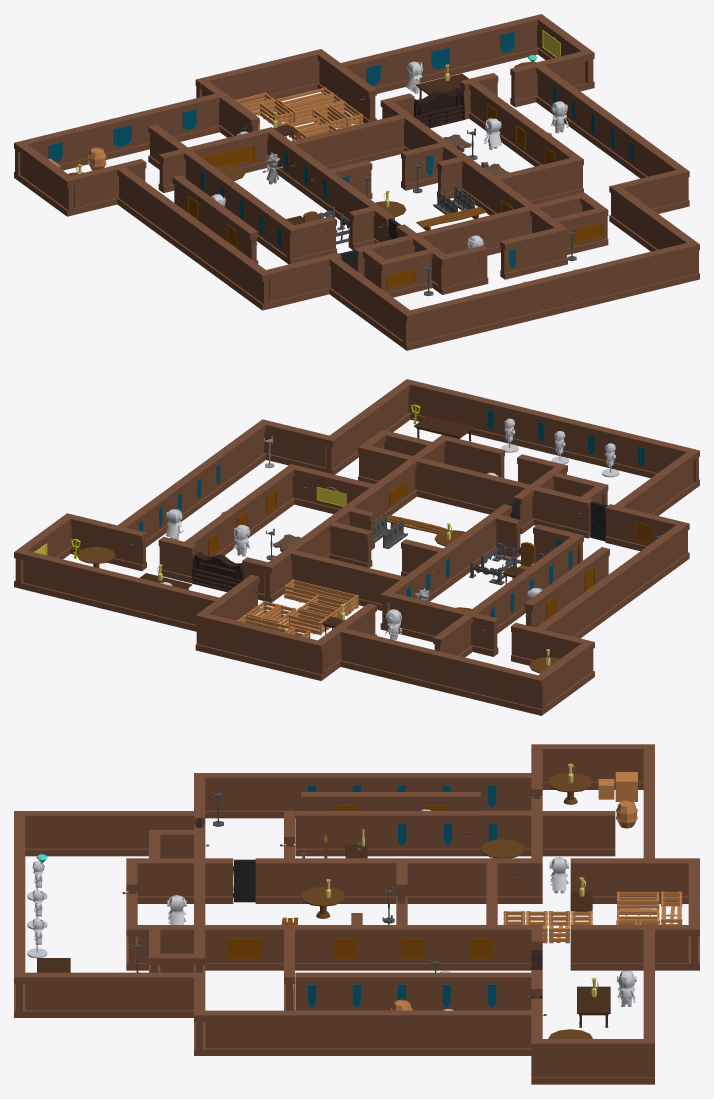
Rendered from Level1_2.0_FBX.fbx.
3 views of the same model, one above another, from view 1: azimuth 30°, elevation 25°; view 2: azimuth 150°, elevation 25°; view 3: azimuth 270°, elevation 25° (orthographic). The views are drawn at different scales.
Parts seen in each view (by area): view 1: Wall31, Wall17, Wall1, Wall12, Wall6, Wall33, Wall20, Wall9, Wall36, Wall23, Wall38, Wall30 (+32 smaller); view 2: Wall31, Wall12, Wall33, Wall1, Wall17, Wall9, Wall6, Wall23, Wall20, Wall8, Wall36, Wall25 (+32 smaller); view 3: Wall6, Wall23, Wall20, Wall38, Wall17, Wall8, Wall25, Wall30, Wall, Wall10, Wall11, Wall13 (+32 smaller).
Part boxes in pixels (x1,y1,x2,y2): Wall31: (402, 241, 699, 350); Wall17: (117, 167, 270, 310); Wall1: (341, 16, 537, 93); Wall12: (14, 94, 219, 180); Wall6: (536, 65, 684, 178); Wall33: (354, 192, 588, 276); Wall20: (263, 127, 394, 243); Wall9: (195, 49, 325, 103); Wall36: (291, 114, 404, 169); Wall23: (380, 98, 533, 215); Wall38: (184, 151, 293, 261); Wall30: (329, 257, 409, 346); Wall31: (402, 379, 699, 488); Wall12: (340, 628, 546, 715); Wall33: (358, 444, 593, 538); Wall1: (22, 550, 219, 631); Wall17: (536, 521, 689, 638); Wall9: (195, 612, 326, 680); Wall6: (117, 423, 265, 547); Wall23: (263, 459, 416, 602); Wall20: (380, 504, 512, 630); Wall8: (184, 467, 294, 556); Wall36: (291, 550, 404, 610); Wall25: (324, 382, 410, 474); Wall6: (205, 1010, 531, 1055); Wall23: (205, 925, 542, 970); Wall20: (255, 858, 542, 903); Wall38: (295, 811, 531, 856); Wall17: (194, 773, 531, 818); Wall8: (295, 972, 531, 1010); Wall25: (25, 972, 204, 1017); Wall30: (25, 811, 193, 856); Wall: (531, 1039, 654, 1084); Wall10: (570, 925, 688, 970); Wall11: (570, 858, 688, 903); Wall13: (531, 744, 643, 789).
Size of what is drawn, in the model's own units: 31.5 by 2.11 by 30.5.
